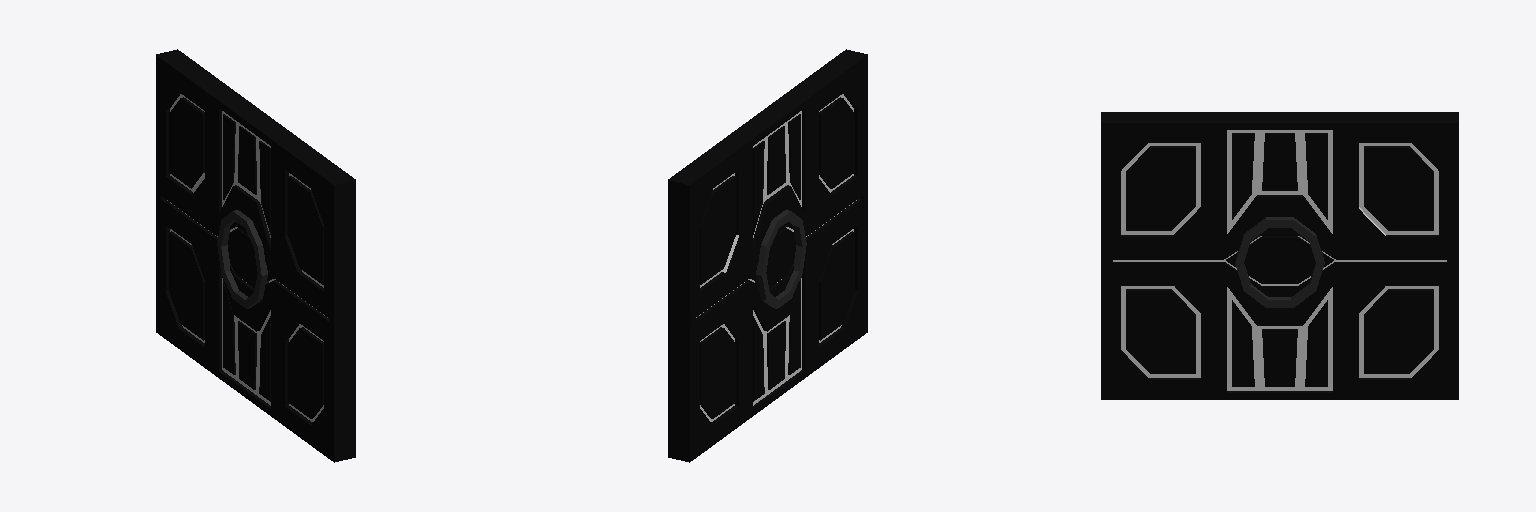
The picture shows the model from 3 angles: view 1: azimuth 30°, elevation 25°; view 2: azimuth 150°, elevation 25°; view 3: azimuth 270°, elevation 25°; orthographic projection.
Parts seen in each view (by area): view 1: Cube_Cube.001; view 2: Cube_Cube.001; view 3: Cube_Cube.001.
Part boxes in pixels (x1,y1,x2,y2): Cube_Cube.001: (156, 49, 355, 462); Cube_Cube.001: (668, 49, 867, 462); Cube_Cube.001: (1101, 112, 1458, 399).
Bounding box in the file's own units: 0.75 × 6 × 7.
1 materials, 1 textured.